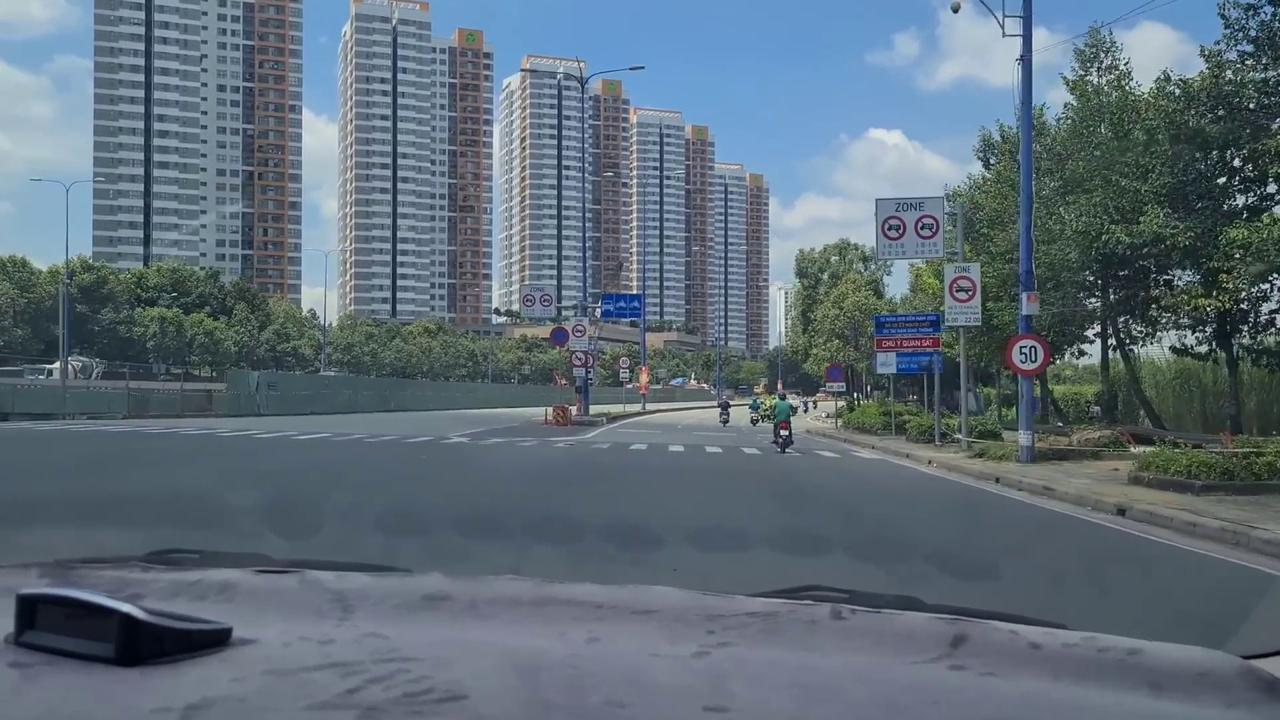Biển phụ: (619, 370, 629, 381)
Cấm cac phương tiện hoạt động trong khung giờ cố định: (874, 195, 946, 262), (942, 262, 985, 327), (519, 283, 556, 319), (569, 316, 589, 351)
Cấm dừng - Cấm đỗ: (548, 325, 570, 347), (824, 361, 846, 383)
Cấm xe máy: (569, 350, 589, 368)
Giới hạn tốc độ 50Km/h: (1002, 332, 1052, 377)
Giới hạn tốc độ 80Km/h: (618, 354, 632, 369)
Khác: (873, 315, 944, 375)
Làn đường cho từng xe: (600, 292, 641, 321)
